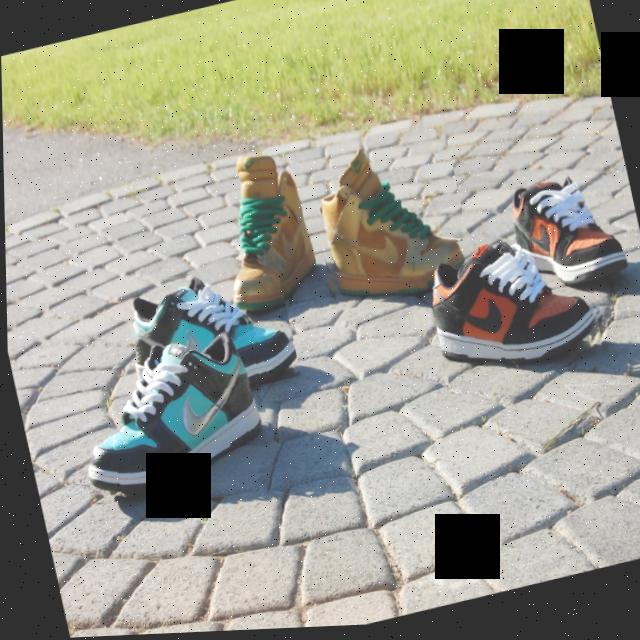shoe: (59, 313, 278, 509), (293, 122, 477, 318), (419, 216, 613, 400), (118, 252, 300, 415), (199, 135, 329, 329), (496, 158, 640, 319)
